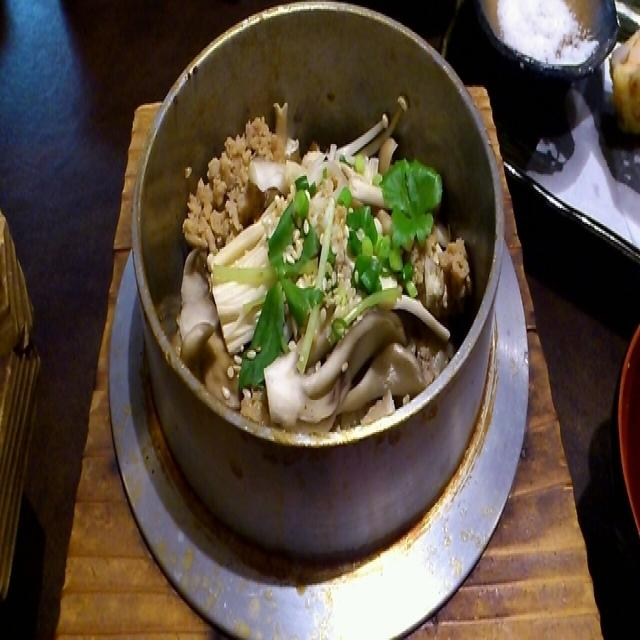炸货点心: (0, 0, 622, 640)
熟制海鲜: (0, 0, 622, 640)
